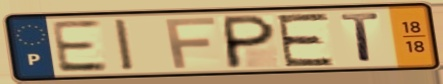E: (47, 18, 112, 75), (274, 11, 337, 68)
F: (162, 15, 219, 70)
I: (111, 17, 138, 73)
P: (223, 12, 279, 70)
T: (338, 12, 383, 65)
